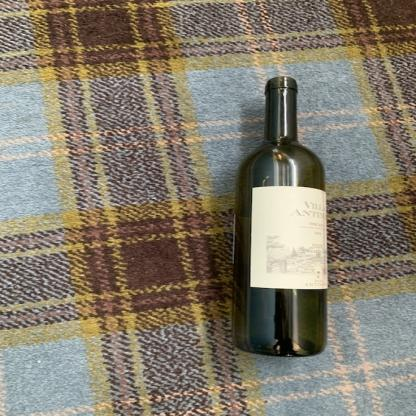trash: (228, 75, 333, 357)
